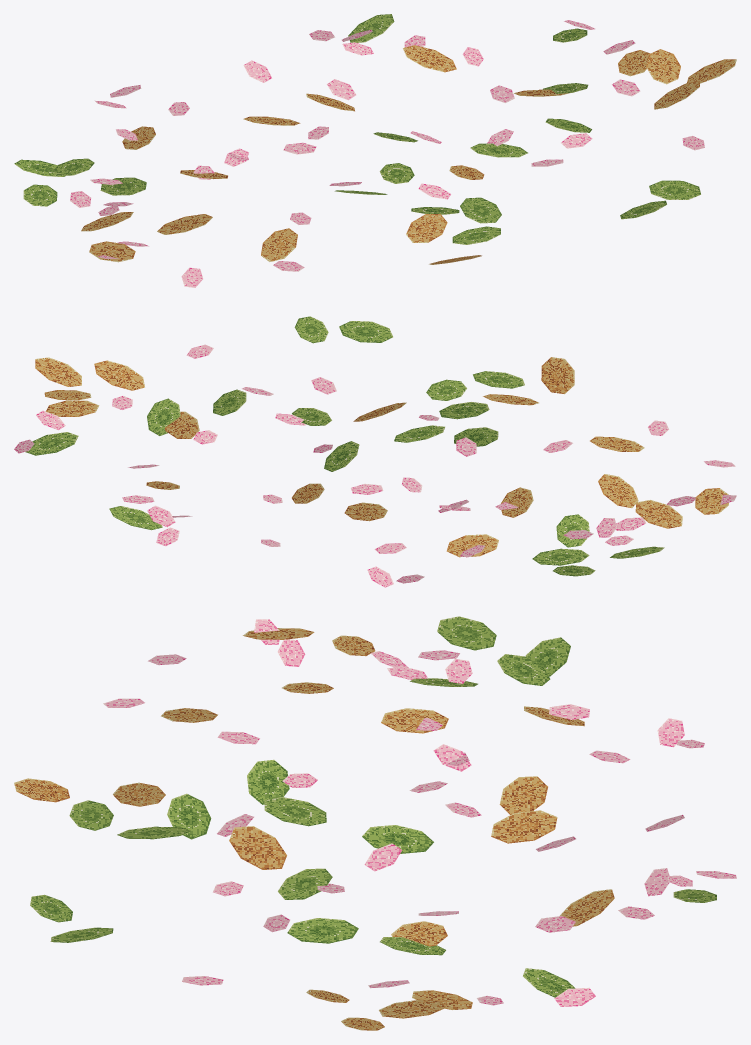
Rendered from petal_drift_own.glb.
The picture shows the model from 3 angles, top to bottom: view 1: azimuth 30°, elevation 25°; view 2: azimuth 150°, elevation 25°; view 3: azimuth 270°, elevation 25°; orthographic projection. The views are drawn at different scales.
Parts seen in each view (by area): view 1: mesh; view 2: mesh; view 3: mesh.
Boxes of the visible parts, left/top/right/bottom form: mesh: left=14, top=14, right=736, bottom=287; mesh: left=14, top=316, right=736, bottom=587; mesh: left=14, top=616, right=736, bottom=1030.
Size of the model in its own units: 1.09 by 0.03 by 0.797.
1 material, 1 textured.
